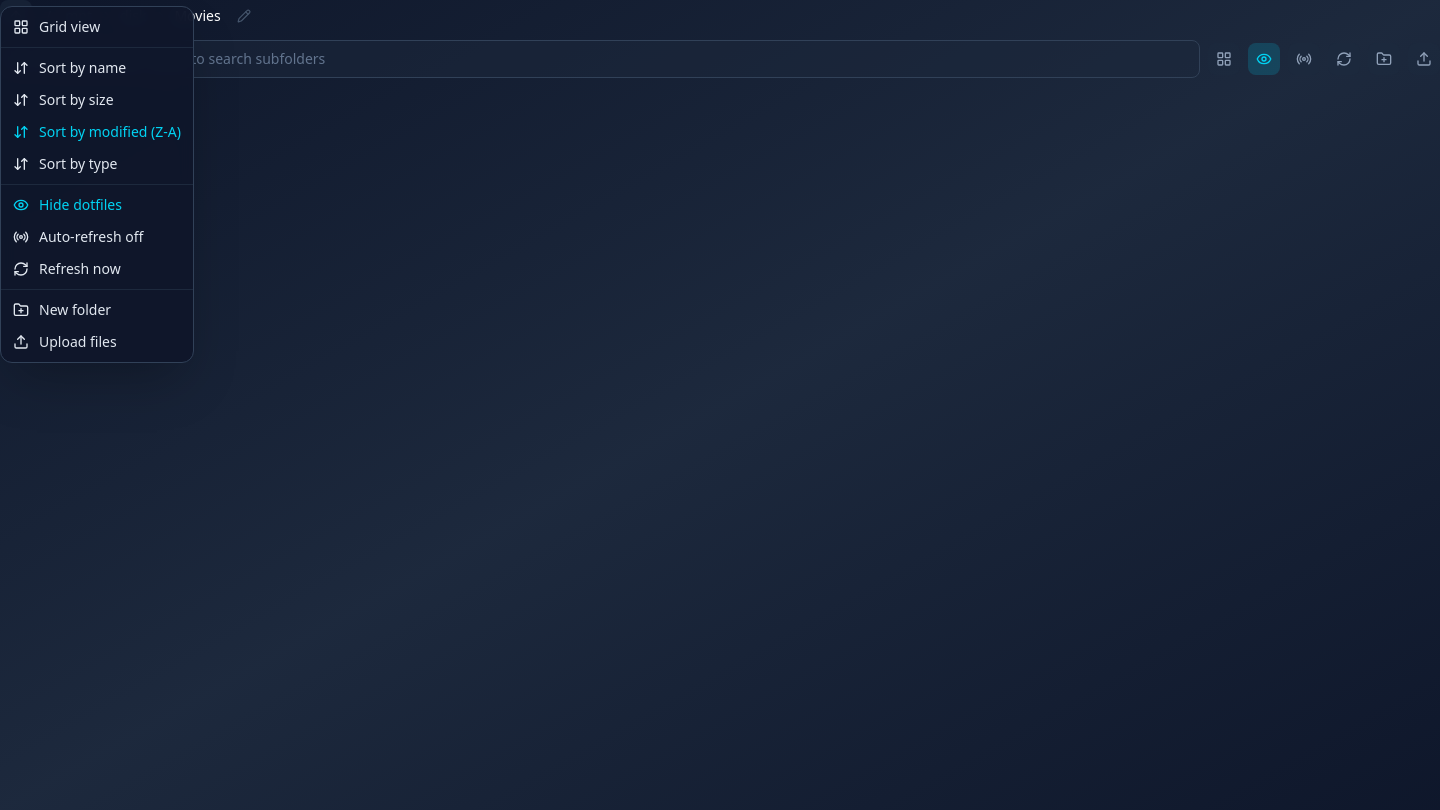
Test: ExplorerToolbar - the phone overflow menu › opens a menu carrying the view toggle, the sorts (current one marked), the toggles and the folder actions
Earlier steps of the test are not shown.
Click the button "Sort by size" at (97, 100), box x1=1 y1=84 x2=193 y2=116
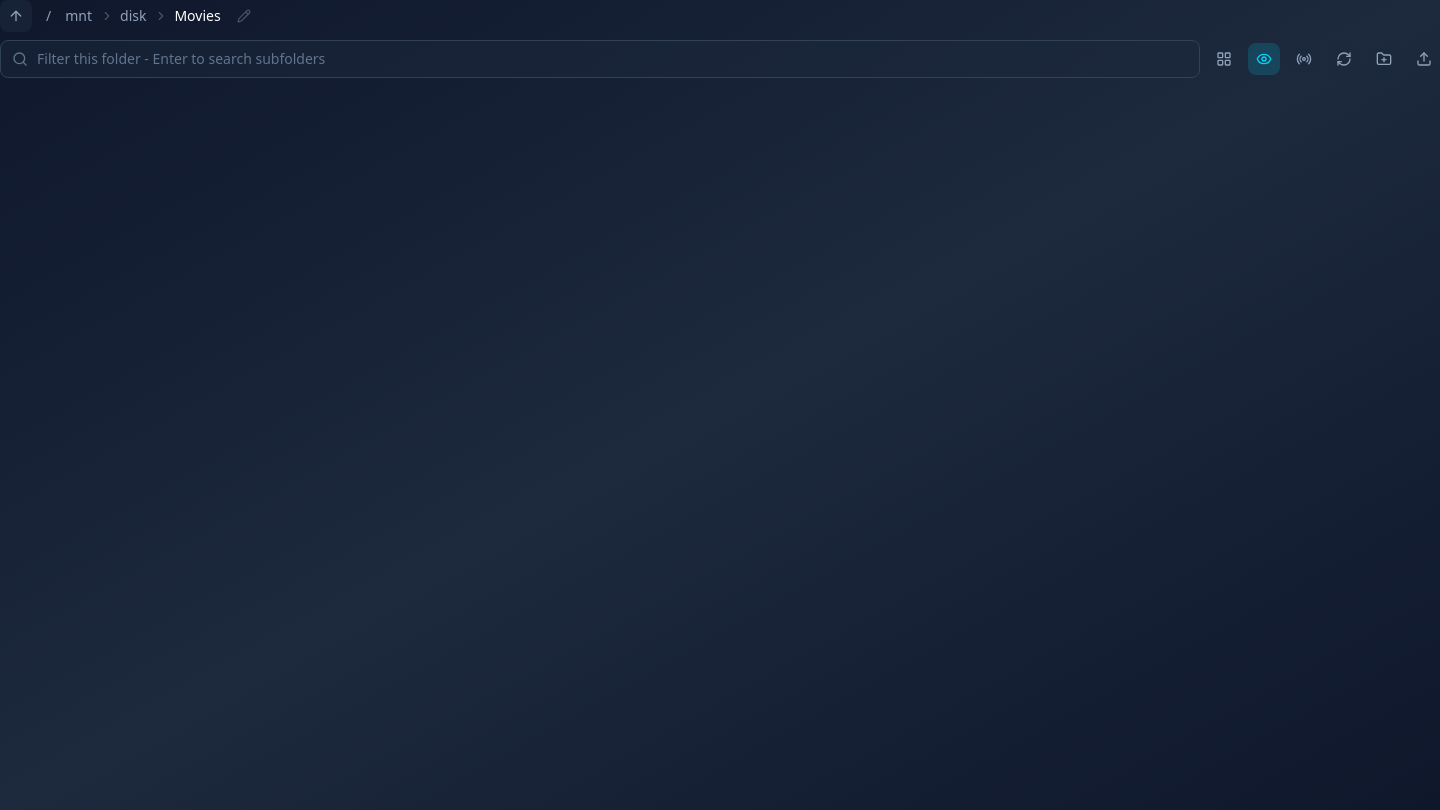
Result: the button "Grid view" is gone
